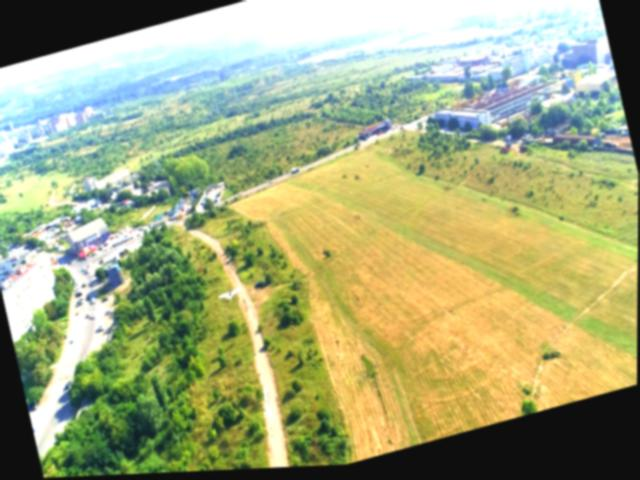plane: (220, 288, 244, 304)
